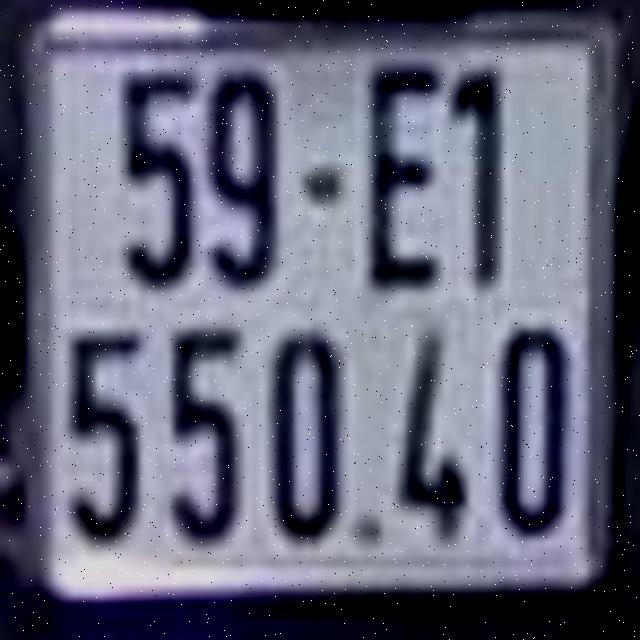0: (495, 319, 571, 536), (270, 327, 341, 540)
1: (450, 61, 514, 290)
4: (398, 323, 472, 544)
5: (119, 66, 198, 287), (66, 327, 144, 543), (168, 324, 243, 543)
9: (206, 66, 280, 290)
E: (367, 59, 445, 288)
